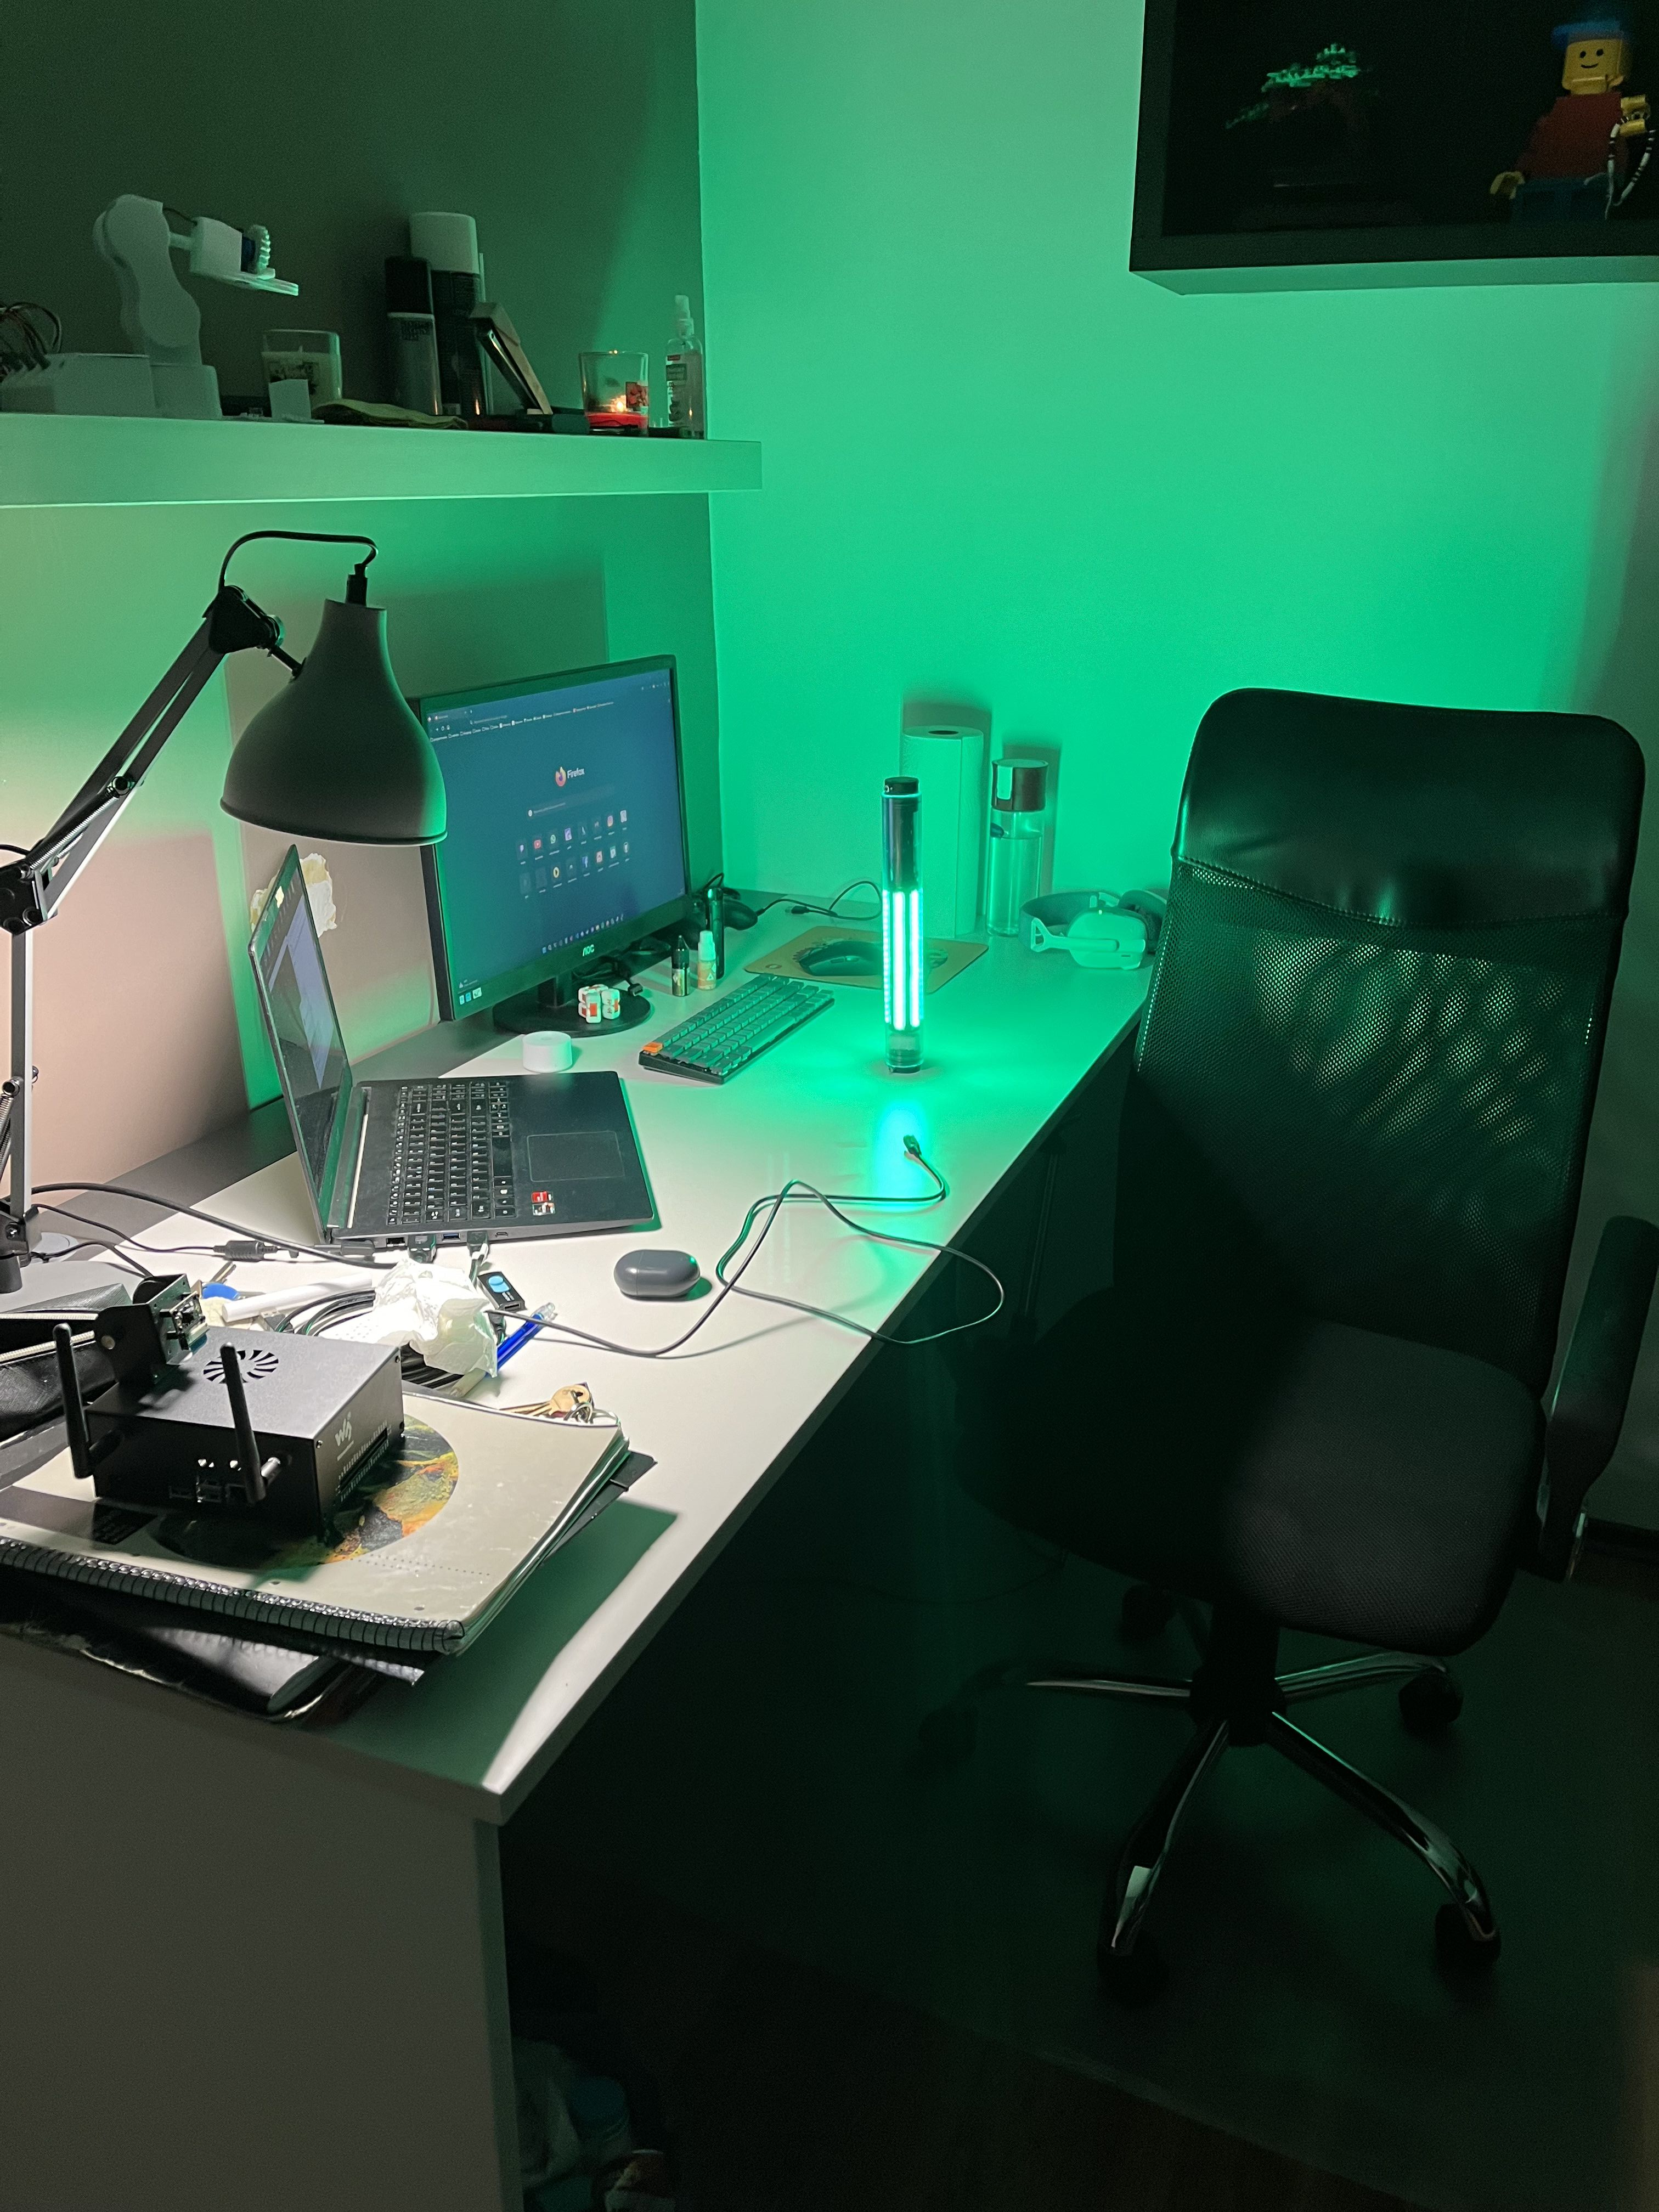green: (882, 791, 922, 1068)
